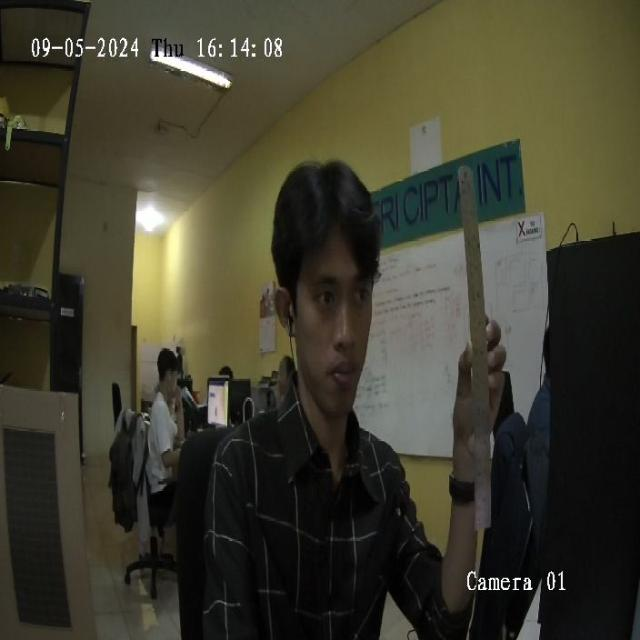Ruler: (460, 167, 491, 531)
